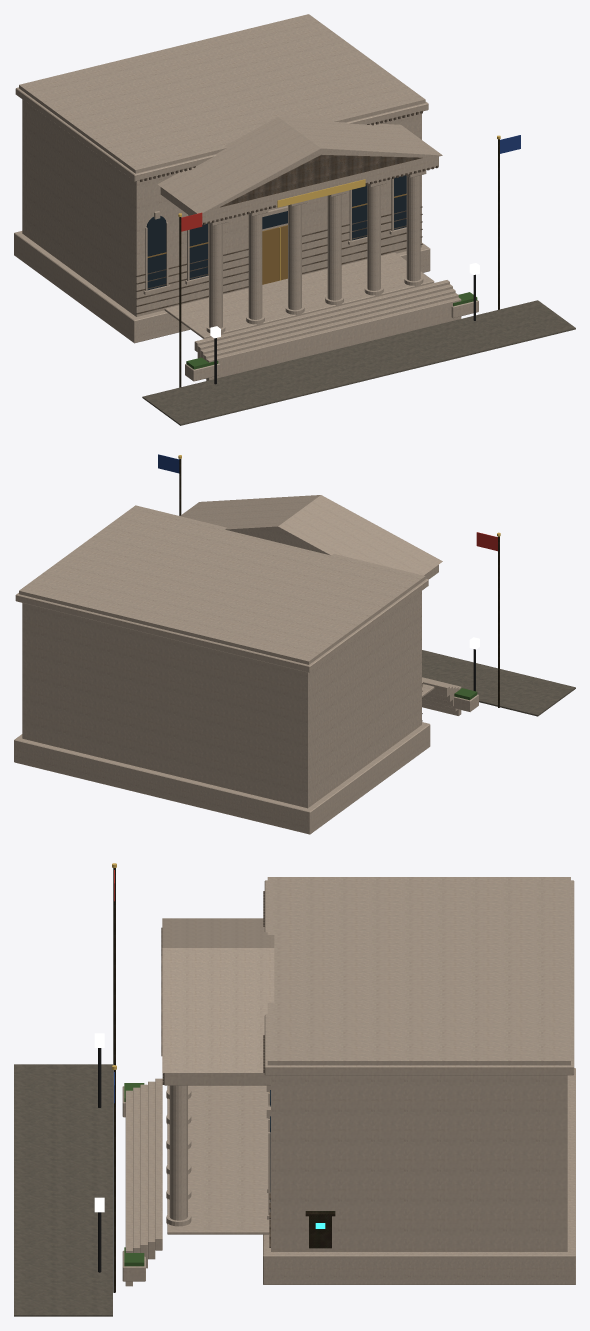
File: OT_Bank_A.glb
The picture shows the model from 3 angles, top to bottom: view 1: azimuth 30°, elevation 25°; view 2: azimuth 150°, elevation 25°; view 3: azimuth 270°, elevation 25°; orthographic projection. The views are drawn at different scales.
Parts seen in each view (by area): view 1: OT_Bank_A_Limestone, OT_Bank_A_Concrete, OT_Bank_A_Stone, OT_Bank_A_Glass__1e2a33, OT_Bank_A_Bronze__8a6a3a, OT_Bank_A_Metal, OT_Bank_A_Gold__d8b25a; view 2: OT_Bank_A_Limestone, OT_Bank_A_Concrete, OT_Bank_A_Metal; view 3: OT_Bank_A_Limestone, OT_Bank_A_Concrete, OT_Bank_A_Metal.
Boxes of the visible parts, x1=… form: OT_Bank_A_Limestone: x1=14, y1=14, x2=478, y2=381; OT_Bank_A_Concrete: x1=142, y1=300, x2=575, y2=425; OT_Bank_A_Stone: x1=136, y1=110, x2=438, y2=314; OT_Bank_A_Glass__1e2a33: x1=146, y1=175, x2=406, y2=290; OT_Bank_A_Bronze__8a6a3a: x1=147, y1=193, x2=406, y2=284; OT_Bank_A_Metal: x1=179, y1=139, x2=499, y2=387; OT_Bank_A_Gold__d8b25a: x1=178, y1=135, x2=500, y2=280; OT_Bank_A_Limestone: x1=14, y1=495, x2=478, y2=834; OT_Bank_A_Concrete: x1=422, y1=650, x2=575, y2=716; OT_Bank_A_Metal: x1=179, y1=459, x2=499, y2=707; OT_Bank_A_Limestone: x1=122, y1=877, x2=575, y2=1286; OT_Bank_A_Concrete: x1=14, y1=1064, x2=112, y2=1316; OT_Bank_A_Metal: x1=113, y1=868, x2=335, y2=1292.
Size of the model in its own units: 36 by 17.3 by 34.1.
Materials: 13 (4 with a texture image).
